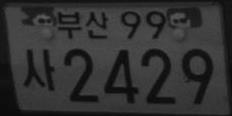2: (139, 47, 176, 105), (62, 47, 100, 103)
4: (103, 48, 139, 105)
9: (181, 47, 214, 105), (119, 9, 142, 39), (145, 9, 167, 40)
부산_H: (56, 10, 110, 40)
사: (22, 48, 56, 92)
